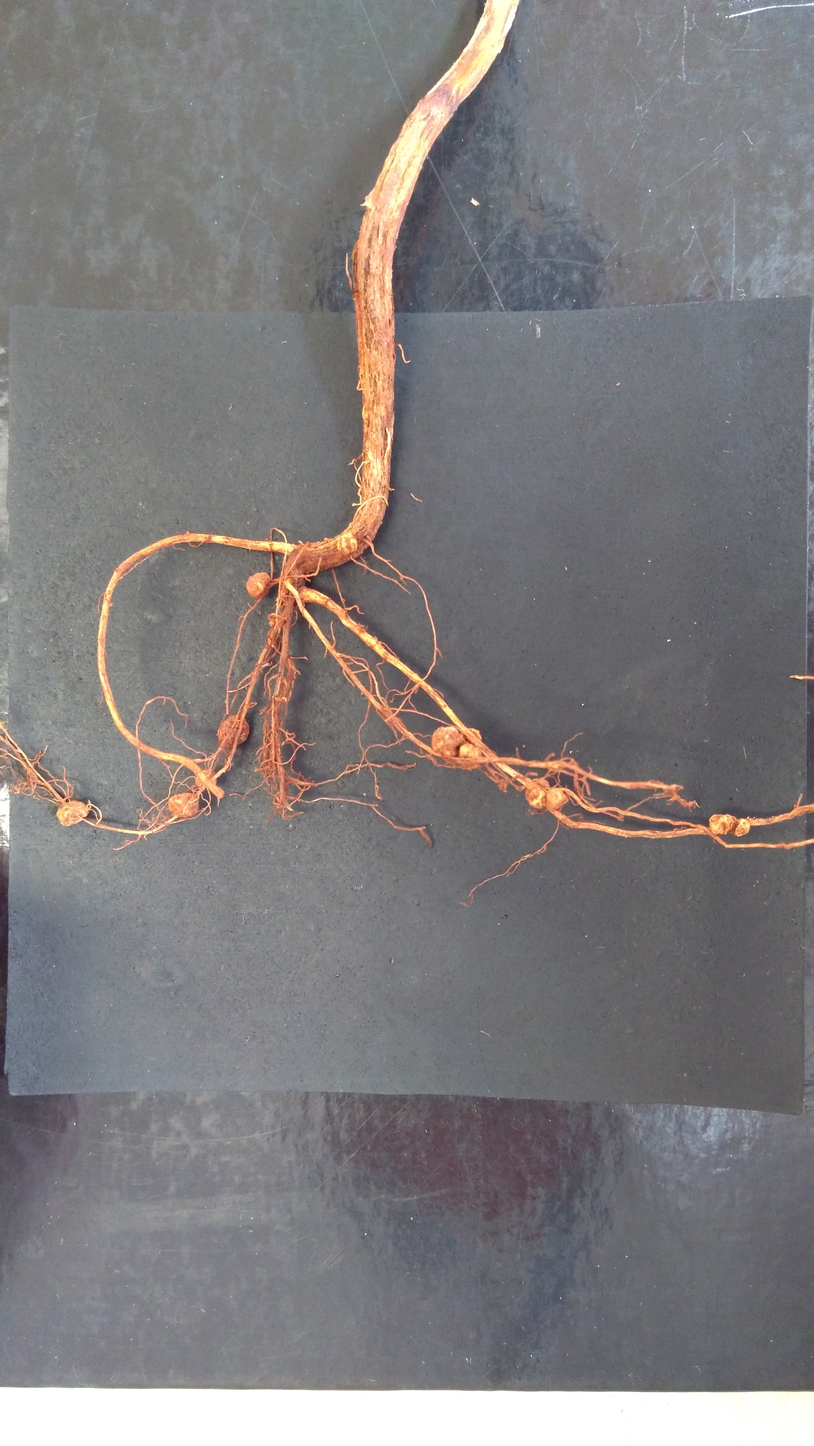nodule: (431, 726, 466, 758), (218, 715, 249, 746), (56, 801, 89, 826), (168, 792, 199, 818), (525, 778, 549, 809), (246, 572, 271, 598), (459, 744, 481, 771), (546, 787, 569, 809), (709, 814, 734, 834), (337, 534, 357, 555), (195, 769, 217, 787), (734, 818, 750, 837), (466, 728, 482, 745), (269, 619, 276, 626)
